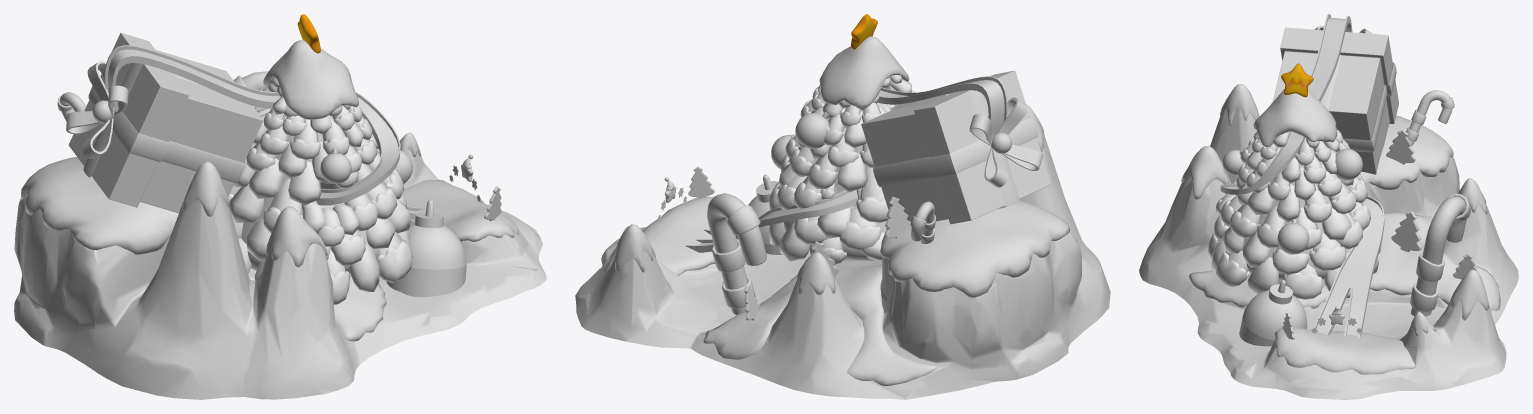
File: Alpinaria.fbx
The picture shows the model from 3 angles, left to right: view 1: azimuth 30°, elevation 25°; view 2: azimuth 150°, elevation 25°; view 3: azimuth 270°, elevation 25°; orthographic projection. The views are drawn at different scales.
Parts seen in each view (by area): view 1: Terreno, Hojas Arbol, Regalo, Nieve, Tobogán, Vieve Montaña.001, Refresco, Vieve Montaña, Adorno Arbol, Tronco, Baston Dulce, Estrella; view 2: Terreno, Nieve, Regalo, Hojas Arbol, Baston Dulce, Tobogán, Vieve Montaña.001, Vieve Montaña, Adorno Arbol, Refresco, Tronco, Plane.003 (+2 smaller); view 3: Terreno, Hojas Arbol, Nieve, Regalo, Tobogán, Baston Dulce, Vieve Montaña, Vieve Montaña.001, Refresco, Adorno Arbol, Plane.001, Tronco (+3 smaller).
Boxes of the visible parts, left/top/right/bottom form: Terreno: left=14, top=149, right=546, bottom=399; Hojas Arbol: left=228, top=77, right=412, bottom=304; Regalo: left=66, top=33, right=263, bottom=213; Nieve: left=21, top=157, right=519, bottom=341; Tobogán: left=104, top=45, right=444, bottom=224; Vieve Montaña.001: left=263, top=40, right=358, bottom=119; Refresco: left=386, top=200, right=466, bottom=297; Vieve Montaña: left=182, top=132, right=421, bottom=267; Adorno Arbol: left=320, top=148, right=412, bottom=184; Tronco: left=241, top=116, right=379, bottom=273; Baston Dulce: left=57, top=71, right=267, bottom=121; Estrella: left=297, top=14, right=320, bottom=53; Terreno: left=575, top=131, right=1110, bottom=399; Nieve: left=642, top=196, right=1069, bottom=385; Regalo: left=861, top=70, right=1051, bottom=224; Hojas Arbol: left=769, top=75, right=913, bottom=264; Baston Dulce: left=707, top=193, right=935, bottom=314; Tobogán: left=685, top=76, right=1007, bottom=252; Vieve Montaña.001: left=819, top=36, right=909, bottom=107; Vieve Montaña: left=612, top=104, right=1044, bottom=294; Adorno Arbol: left=771, top=92, right=915, bottom=168; Refresco: left=748, top=174, right=782, bottom=254; Tronco: left=784, top=85, right=897, bottom=260; Plane.003: left=884, top=196, right=910, bottom=238; Terreno: left=1139, top=108, right=1518, bottom=399; Hojas Arbol: left=1207, top=128, right=1381, bottom=299; Nieve: left=1188, top=115, right=1500, bottom=374; Regalo: left=1273, top=25, right=1398, bottom=174; Tobogán: left=1220, top=14, right=1384, bottom=338; Baston Dulce: left=1406, top=90, right=1470, bottom=316; Vieve Montaña: left=1181, top=84, right=1488, bottom=335; Vieve Montaña.001: left=1253, top=89, right=1336, bottom=146; Refresco: left=1239, top=280, right=1307, bottom=346; Adorno Arbol: left=1222, top=144, right=1362, bottom=254; Plane.001: left=1391, top=211, right=1421, bottom=251; Tronco: left=1242, top=132, right=1350, bottom=280.
Bounding box in the file's own units: 6121 × 3684 × 5054.
